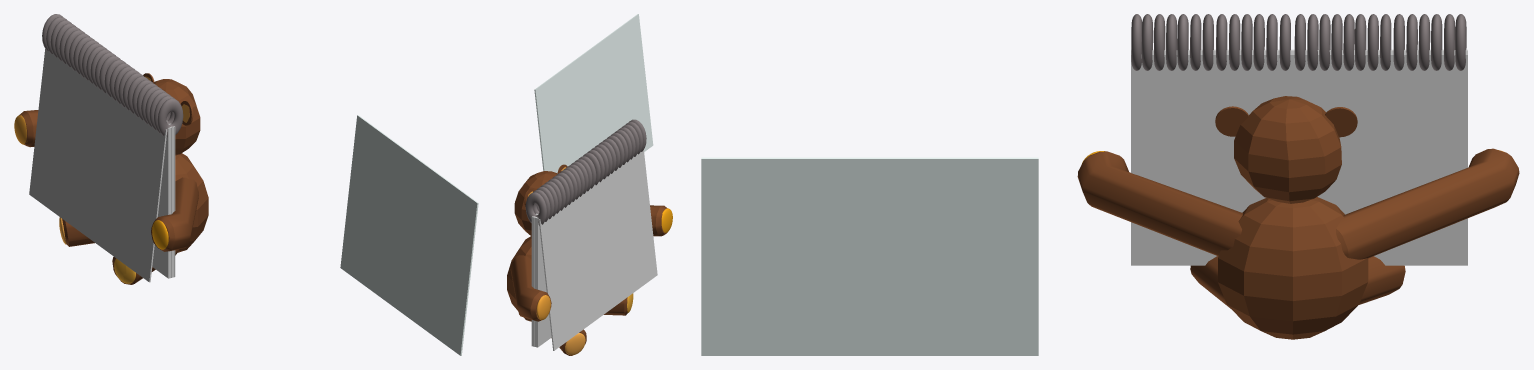
The model's file is Bear color.fbx.
The picture shows the model from 3 angles, left to right: view 1: azimuth 30°, elevation 25°; view 2: azimuth 150°, elevation 25°; view 3: azimuth 270°, elevation 25°; orthographic projection. The views are drawn at different scales.
Parts seen in each view (by area): view 1: pasted__pasted__pCube1, pasted__pSphere5.002, pasted__pSphere5.003, pasted__pSphere5.004, pasted__pSphere5.001, pasted__pSphere5.007; view 2: pasted__pSphere5.002, pasted__pasted__pCube1, pasted__pSphere5.003, pasted__pSphere5.004, pasted__pSphere5.007; view 3: pasted__pasted__pCube1, pasted__pSphere5.004, pasted__pSphere5.002, pasted__pSphere5.003.
Boxes of the visible parts, x1=… form: pasted__pasted__pCube1: x1=340, y1=115, x2=478, y2=355; pasted__pSphere5.002: x1=29, y1=49, x2=174, y2=281; pasted__pSphere5.003: x1=42, y1=14, x2=183, y2=137; pasted__pSphere5.004: x1=20, y1=73, x2=208, y2=284; pasted__pSphere5.001: x1=60, y1=127, x2=175, y2=282; pasted__pSphere5.007: x1=14, y1=73, x2=189, y2=283; pasted__pSphere5.002: x1=531, y1=150, x2=657, y2=350; pasted__pasted__pCube1: x1=534, y1=14, x2=653, y2=173; pasted__pSphere5.003: x1=525, y1=119, x2=646, y2=225; pasted__pSphere5.004: x1=507, y1=164, x2=667, y2=352; pasted__pSphere5.007: x1=526, y1=167, x2=672, y2=355; pasted__pasted__pCube1: x1=701, y1=157, x2=1038, y2=355; pasted__pSphere5.004: x1=1077, y1=96, x2=1519, y2=339; pasted__pSphere5.002: x1=1131, y1=55, x2=1467, y2=265; pasted__pSphere5.003: x1=1131, y1=14, x2=1467, y2=70.
Bounding box in the file's own units: 94.18 × 104 × 266.
